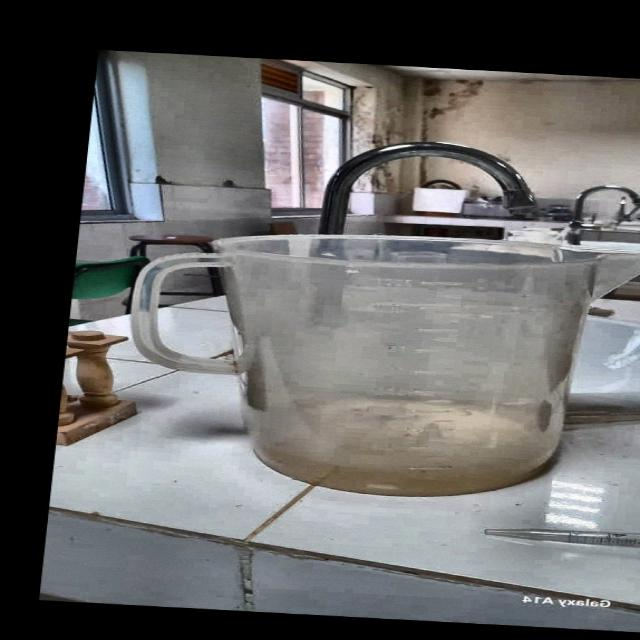Beakers: (93, 217, 640, 509)
